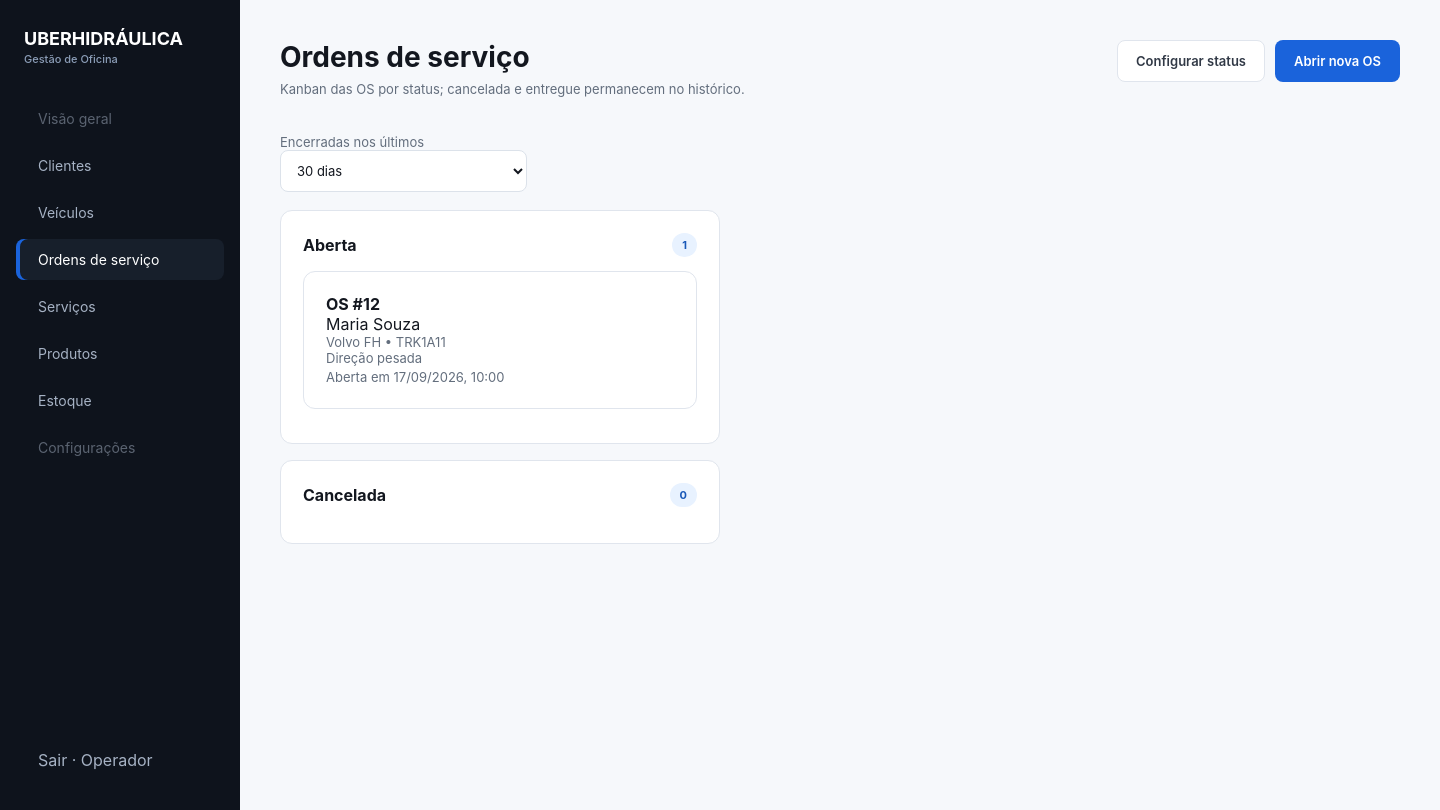
it: Kanban mostra colunas, cartões com cliente e veículo e muda o período das encerradas
This screenshot has width=1440, height=810.
Expected: the link "OS #12" shows "Volvo FH • TRK1A11", [303, 271, 697, 409]
Select "90 dias" in the dropdown named "Período das encerradas" at (403, 171), box [280, 150, 527, 192]
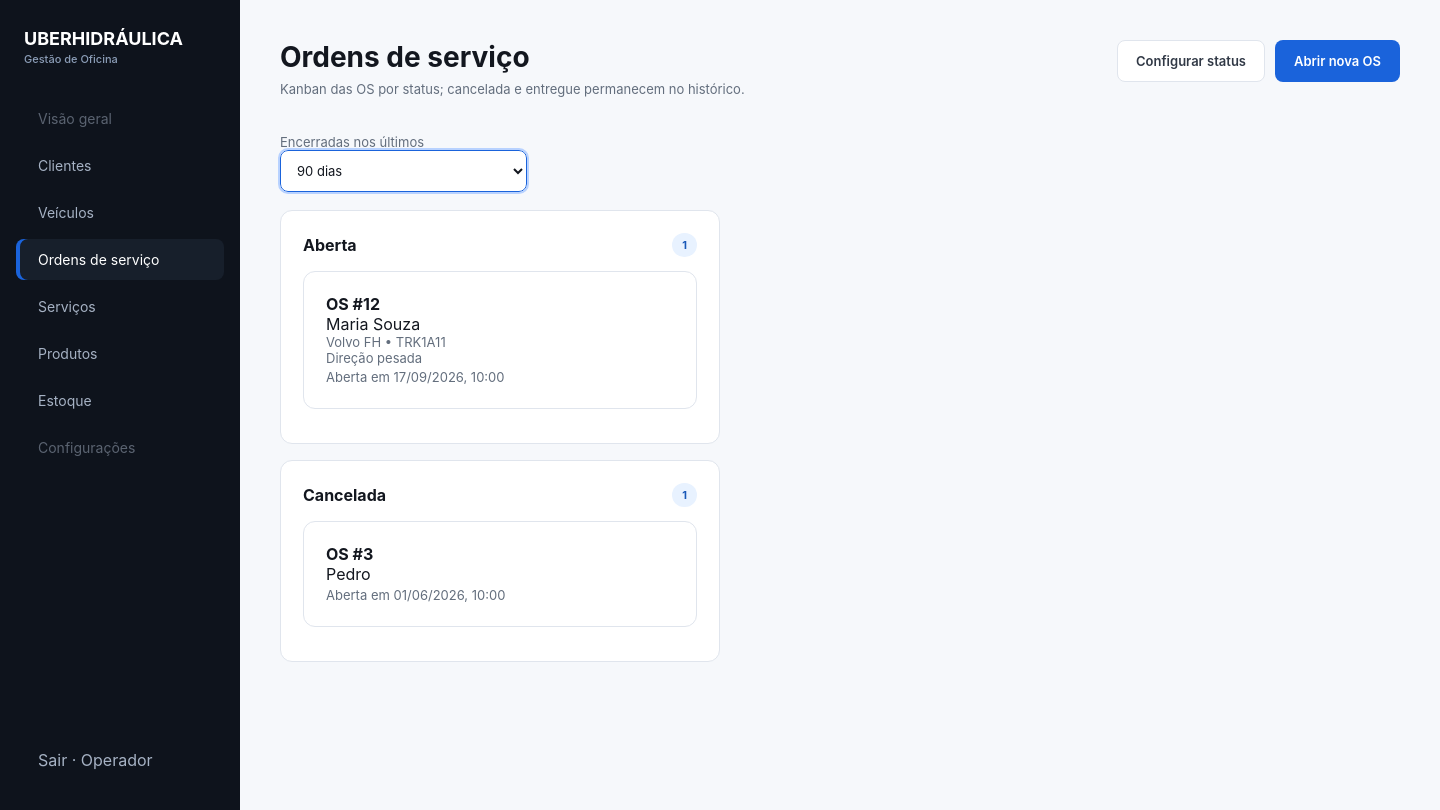
Now the link "OS #3 Pedro Aberta em 01/06/2026, 10:00" is shown, box [303, 521, 697, 627]
